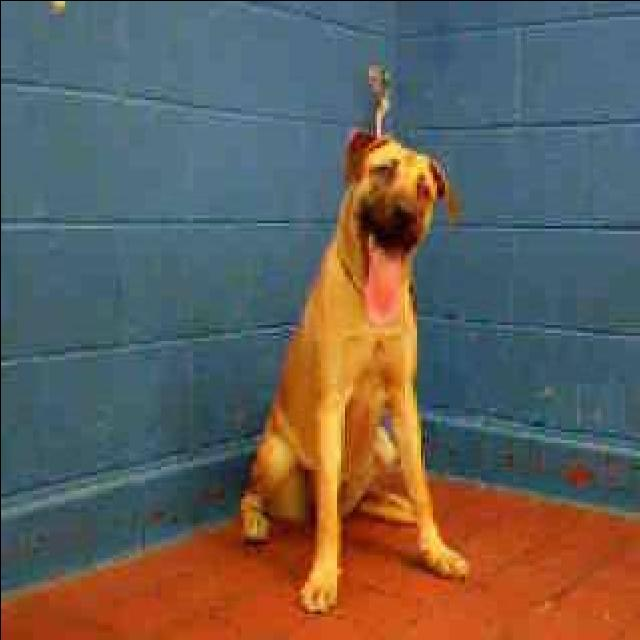dog: (219, 120, 482, 602)
